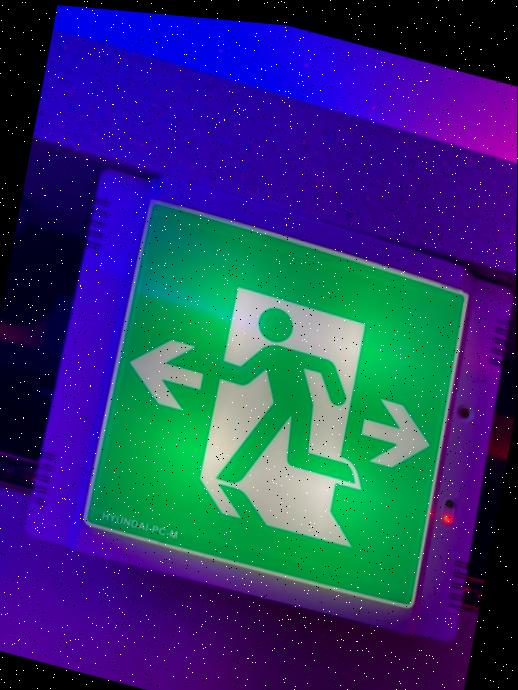emergency_exit: (2, 4, 516, 687), (82, 198, 470, 612)
